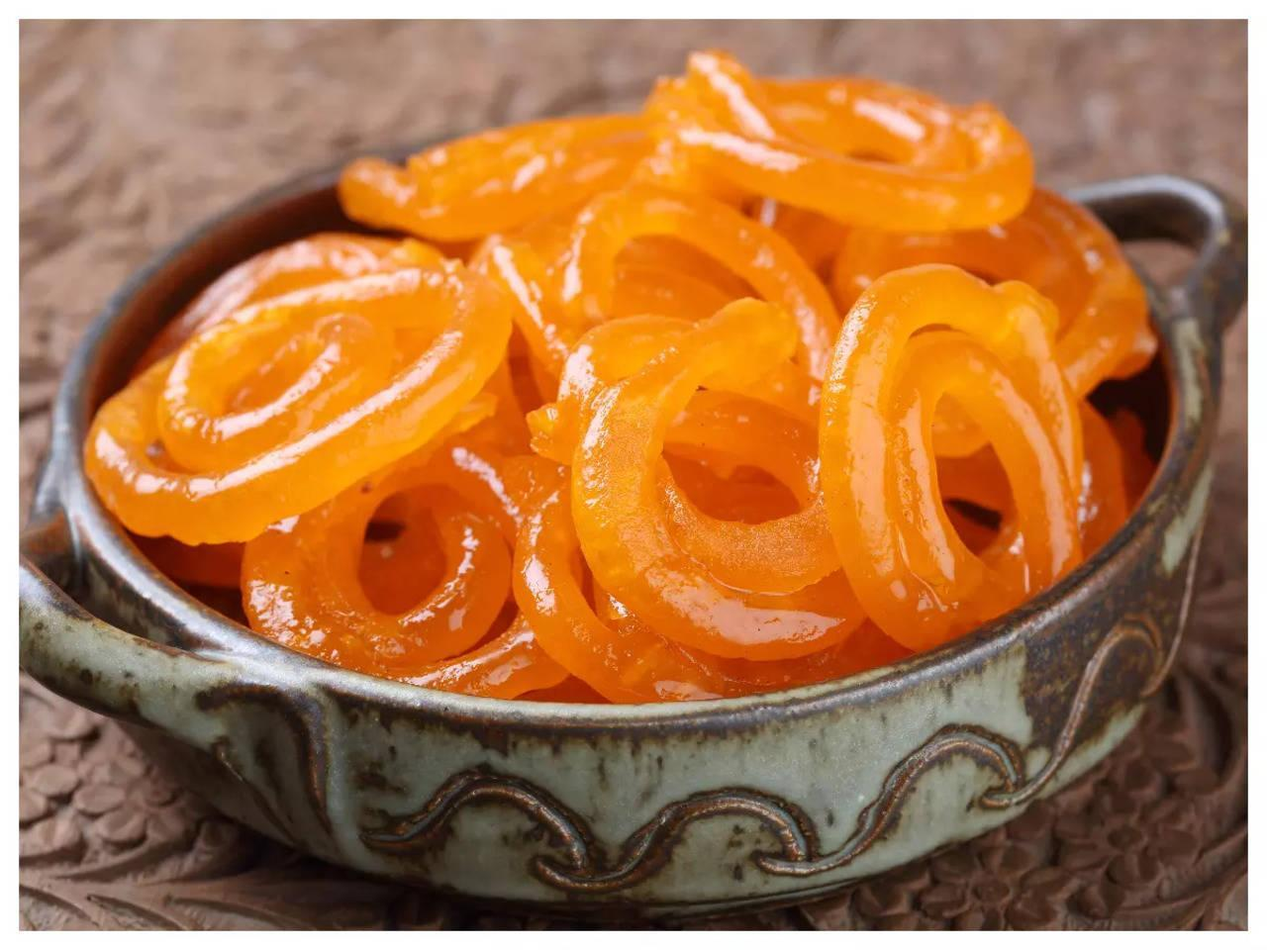jalebi: (111, 88, 1180, 672)
